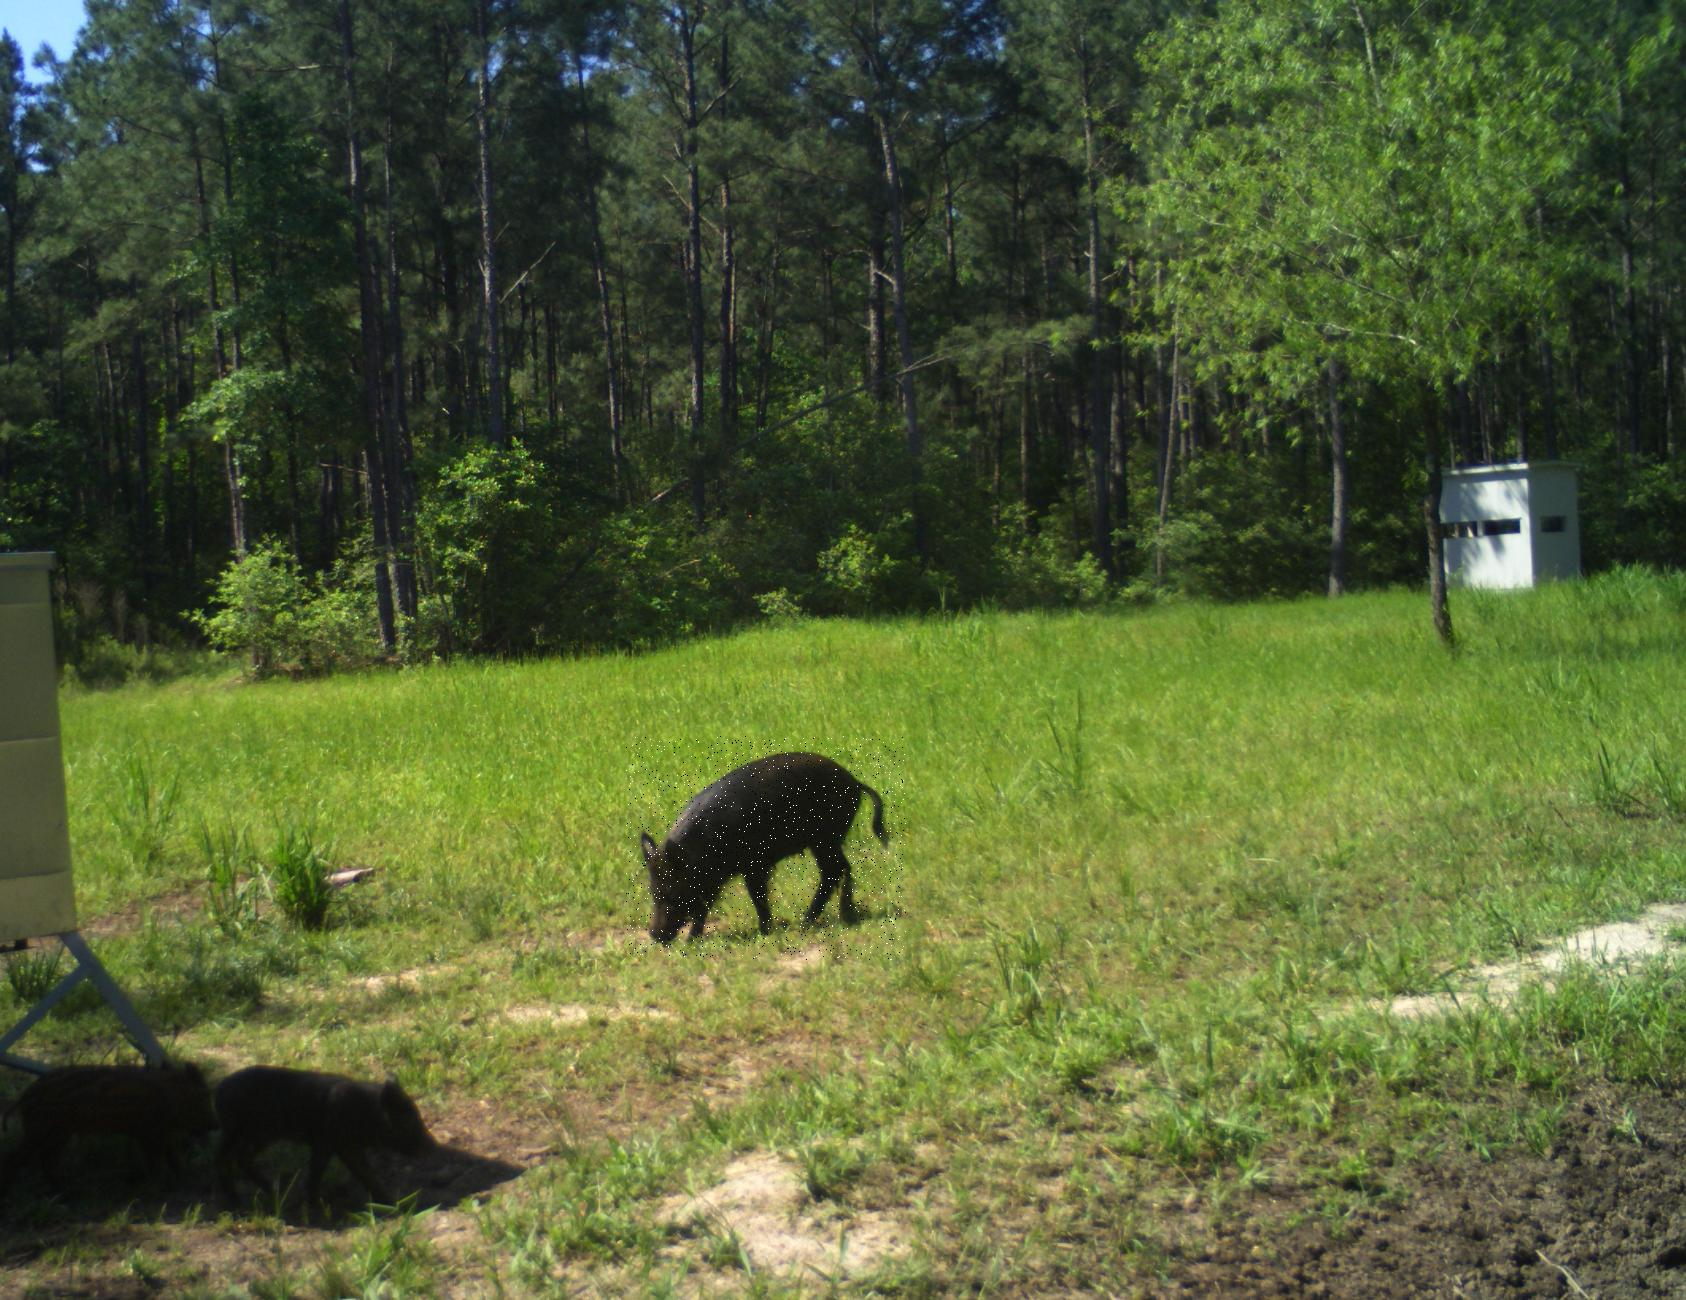Hog: (627, 736, 905, 960)
